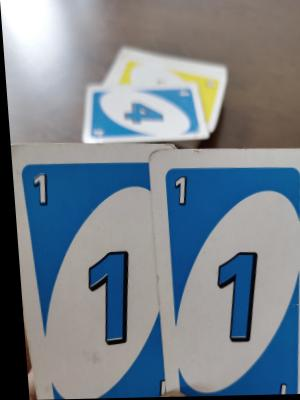blue: (160, 159, 300, 397), (26, 162, 154, 393)
num_1: (26, 171, 53, 216), (165, 176, 190, 215)
